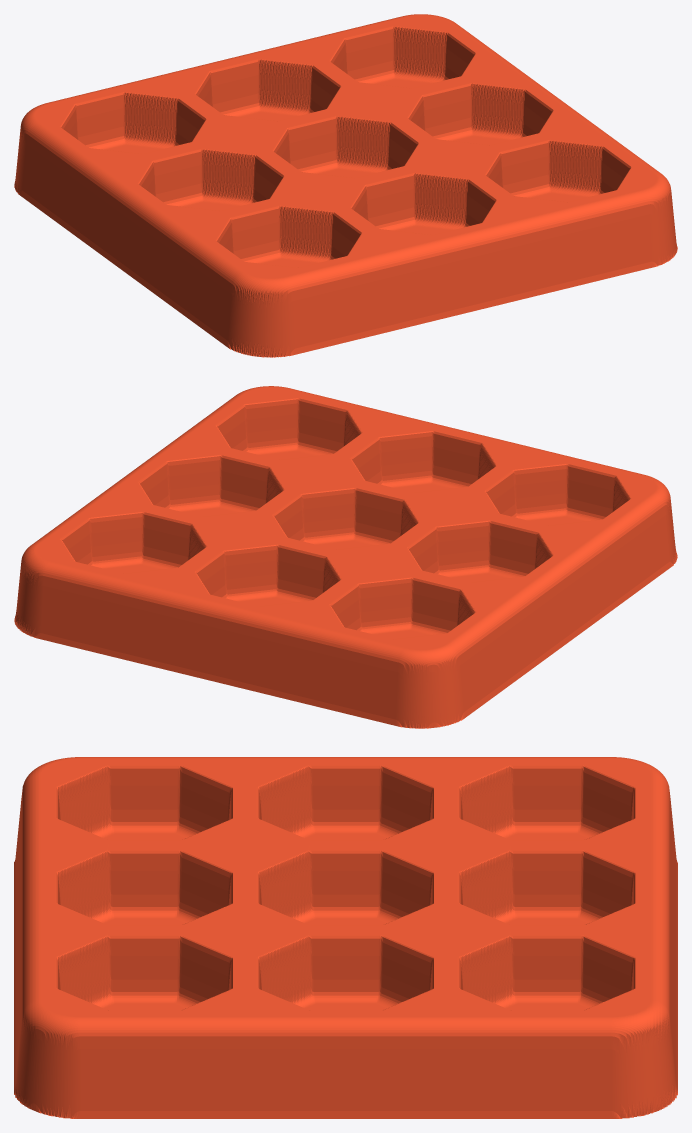
File: mold.glb
3 renders of one model, top to bottom at view 1: azimuth 30°, elevation 25°; view 2: azimuth 150°, elevation 25°; view 3: azimuth 270°, elevation 25°, orthographic. The views are drawn at different scales.
Visible parts, largest first — view 1: geometry_0; view 2: geometry_0; view 3: geometry_0.
Boxes of the visible parts, x1,y1,x2,y2 form: geometry_0: (14,14,677,357); geometry_0: (14,386,677,728); geometry_0: (14,757,677,1118).
Bounding box in the file's own units: 0.0904 × 0.0136 × 0.0904.
